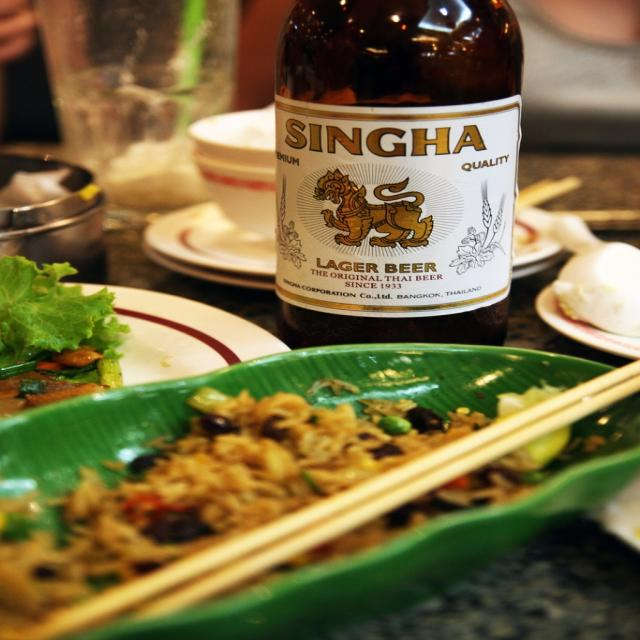singha: (277, 103, 519, 313)
